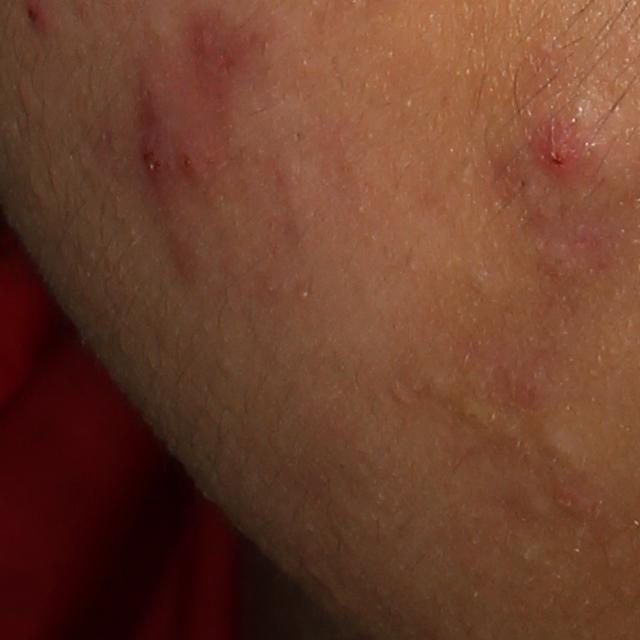comedo: (549, 483, 603, 531), (546, 433, 585, 473), (456, 403, 496, 440)
papule: (524, 112, 598, 182)
